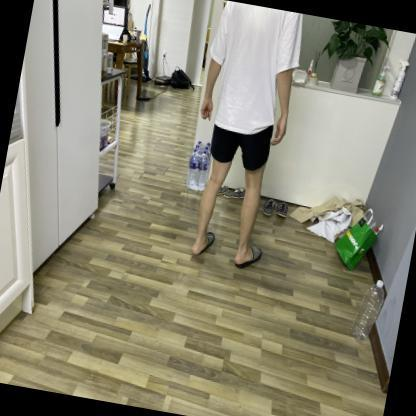no_safety-shoe: (179, 221, 225, 274), (226, 236, 273, 275)
